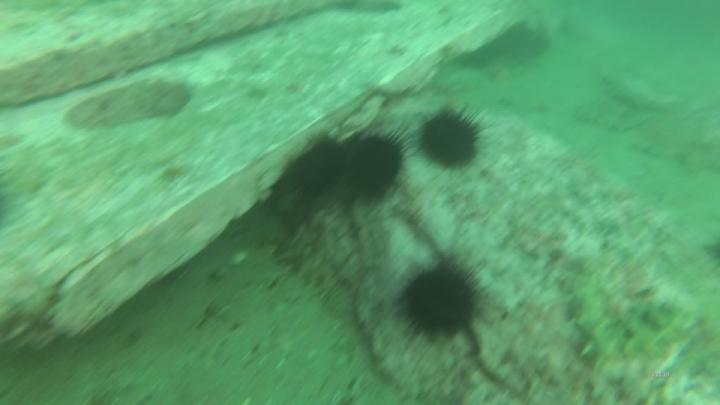echinus: (394, 249, 493, 350), (348, 119, 413, 213), (412, 95, 488, 175), (288, 135, 350, 204)
starfish: (557, 261, 696, 377)
